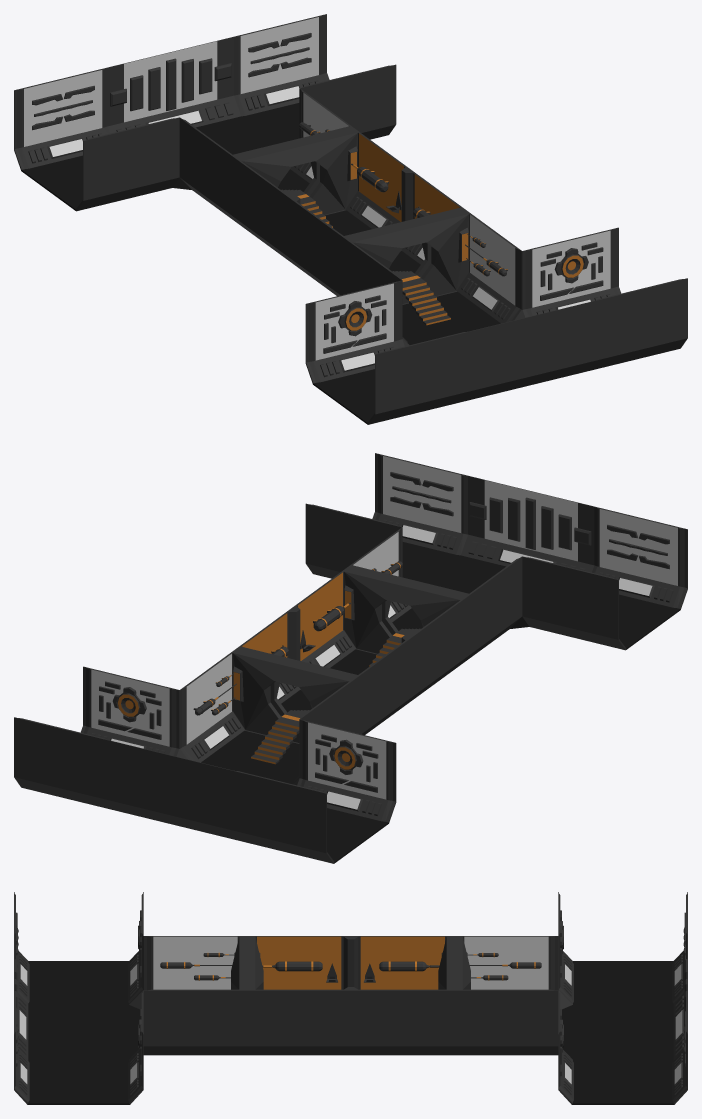
Rendered from i-Stuk.fbx.
The picture shows the model from 3 angles, top to bottom: view 1: azimuth 30°, elevation 25°; view 2: azimuth 150°, elevation 25°; view 3: azimuth 270°, elevation 25°; orthographic projection. The views are drawn at different scales.
Parts seen in each view (by area): view 1: i_Stuk; view 2: i_Stuk; view 3: i_Stuk.
Boxes of the visible parts, bbox=[...] form: i_Stuk: bbox=[14, 14, 687, 424]; i_Stuk: bbox=[14, 453, 687, 863]; i_Stuk: bbox=[14, 892, 687, 1104].
Size of the model in its own units: 2600 by 600 by 5200.
